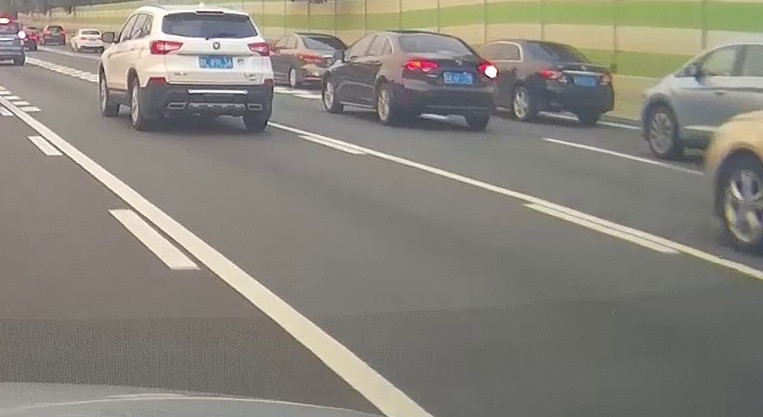L_light: (403, 60, 438, 76), (149, 40, 183, 55), (539, 69, 568, 83)
R_light: (247, 42, 270, 56), (477, 64, 498, 78), (601, 73, 611, 85)
T_light: (196, 10, 223, 15), (437, 49, 454, 54), (542, 44, 555, 49)
day-no: (147, 5, 274, 130), (523, 40, 614, 125)
day-right: (399, 30, 498, 129)
